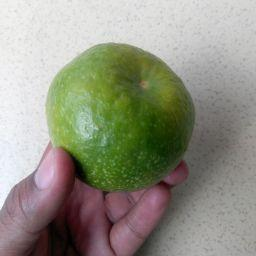Unripe: (44, 42, 195, 183)
